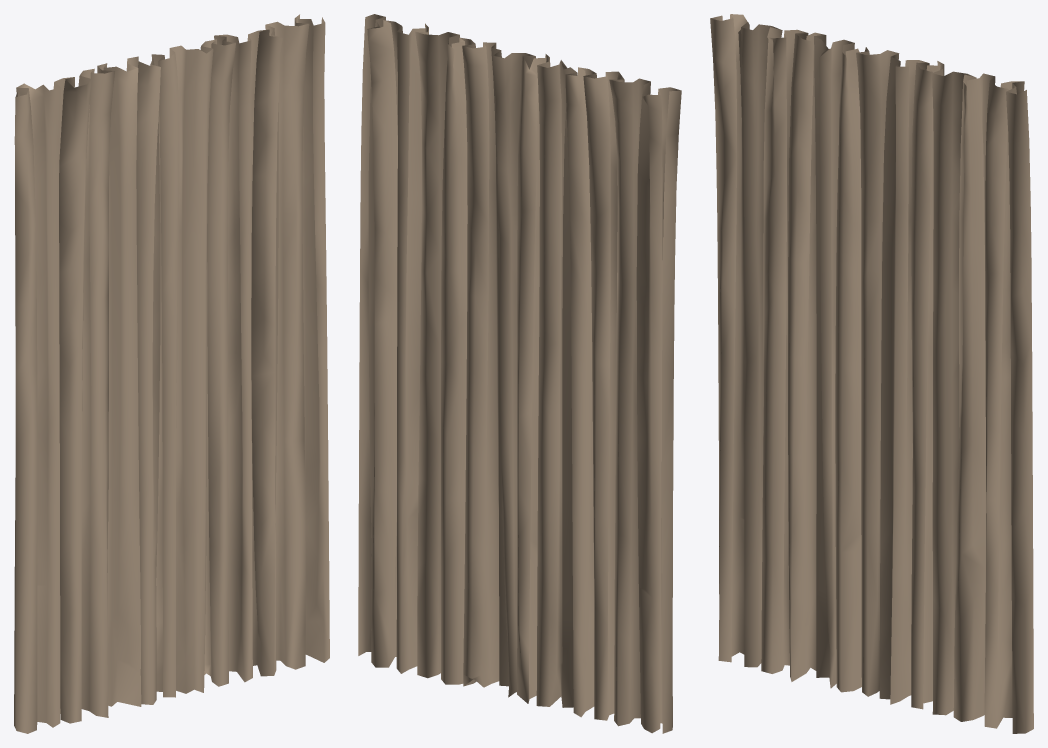
Rendered from tulle_rings_w100_h160_g80_1690_lod0.glb.
The picture shows the model from 3 angles, left to right: view 1: azimuth 30°, elevation 25°; view 2: azimuth 150°, elevation 25°; view 3: azimuth 330°, elevation 25°; orthographic projection.
Visible parts, largest first — view 1: tulle_rings_g80_1690_lod0_fabric; view 2: tulle_rings_g80_1690_lod0_fabric; view 3: tulle_rings_g80_1690_lod0_fabric.
Boxes of the visible parts, x1,y1,x2,y2 form: tulle_rings_g80_1690_lod0_fabric: (14,14,329,733); tulle_rings_g80_1690_lod0_fabric: (358,14,681,733); tulle_rings_g80_1690_lod0_fabric: (710,14,1033,733).
Size of the model in its own units: 0.8328 by 1.61 by 0.0938.
